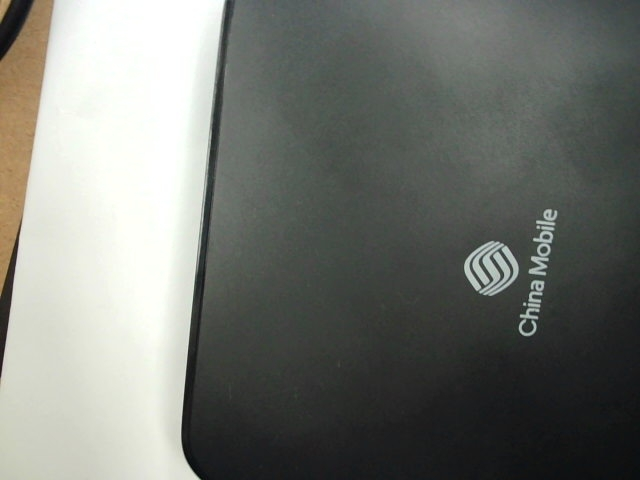AA_ChinaMobile: (458, 184, 567, 343)
